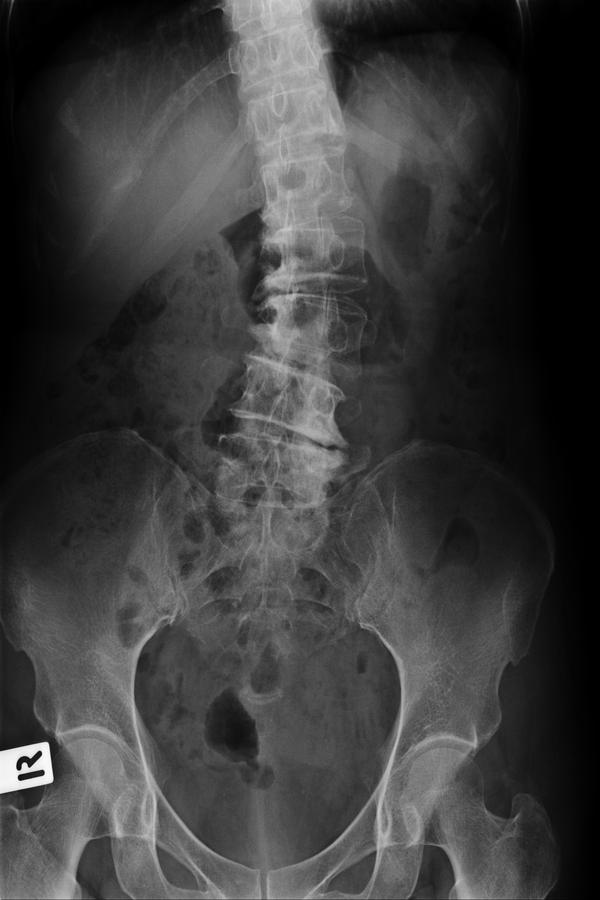lumbar scoliosis: (223, 38, 355, 539)
